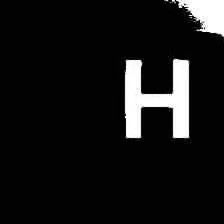LTR_H: (111, 50, 200, 146)
